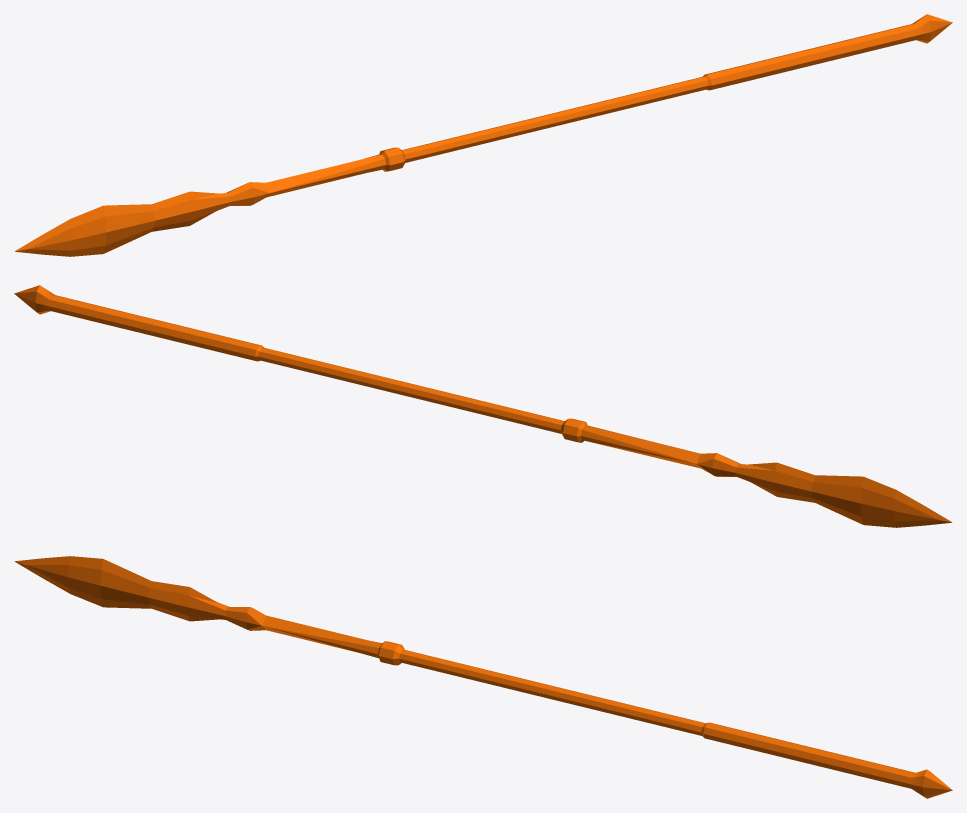
Rendered from CGM_ENV_WEP_spear5.fbx.
3 renders of one model, top to bottom at view 1: azimuth 30°, elevation 25°; view 2: azimuth 150°, elevation 25°; view 3: azimuth 330°, elevation 25°, orthographic.
Visible parts, largest first — view 1: CGM_ENV_WEP_spear5; view 2: CGM_ENV_WEP_spear5; view 3: CGM_ENV_WEP_spear5.
Part boxes in pixels (x1=…): CGM_ENV_WEP_spear5: x1=14, y1=14, x2=952, y2=256; CGM_ENV_WEP_spear5: x1=14, y1=285, x2=952, y2=527; CGM_ENV_WEP_spear5: x1=14, y1=556, x2=952, y2=798.
Size of the model in its own units: 233 by 11.49 by 4.87.
